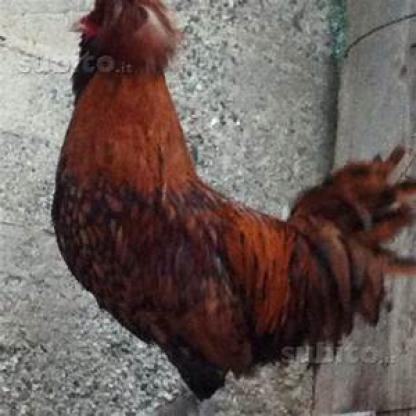chicken: (52, 0, 414, 415)
